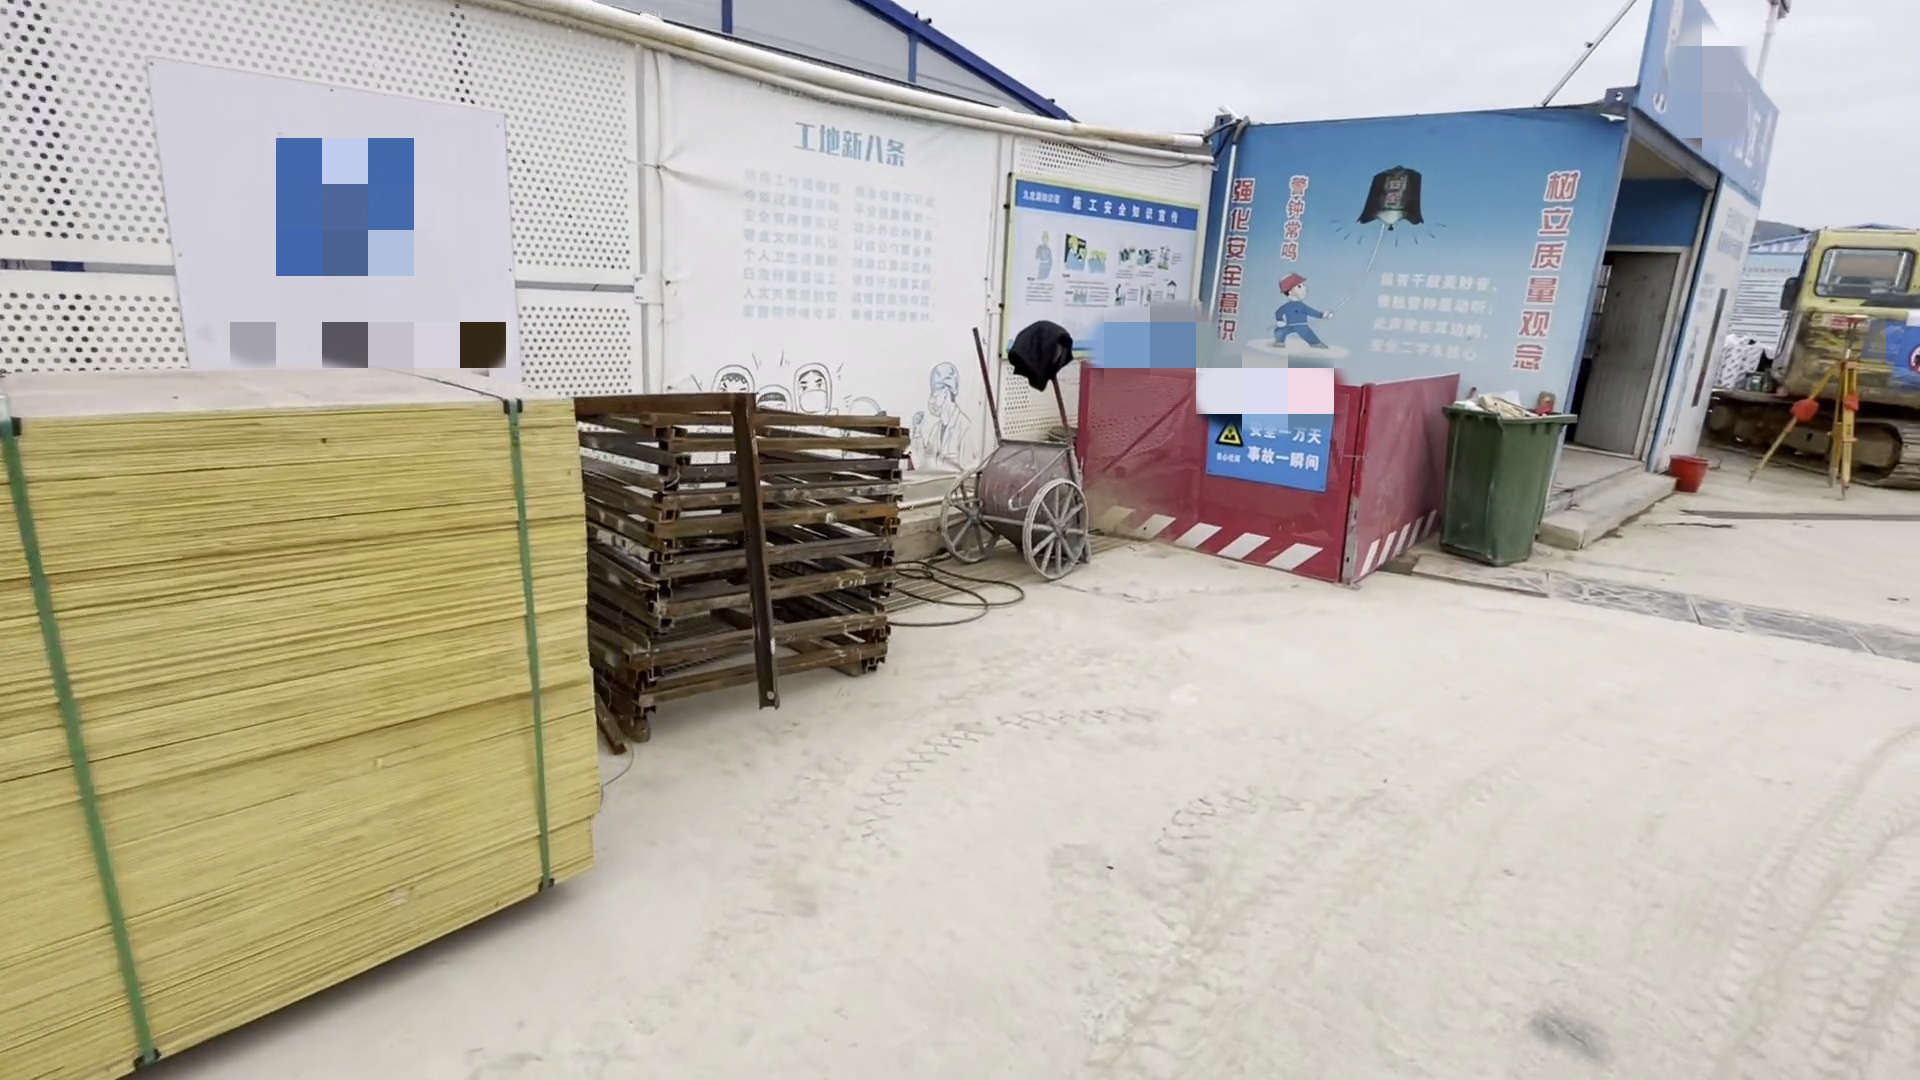board: (3, 388, 630, 1080)
handcart: (938, 328, 1104, 583)
slogan: (1204, 407, 1342, 488)
